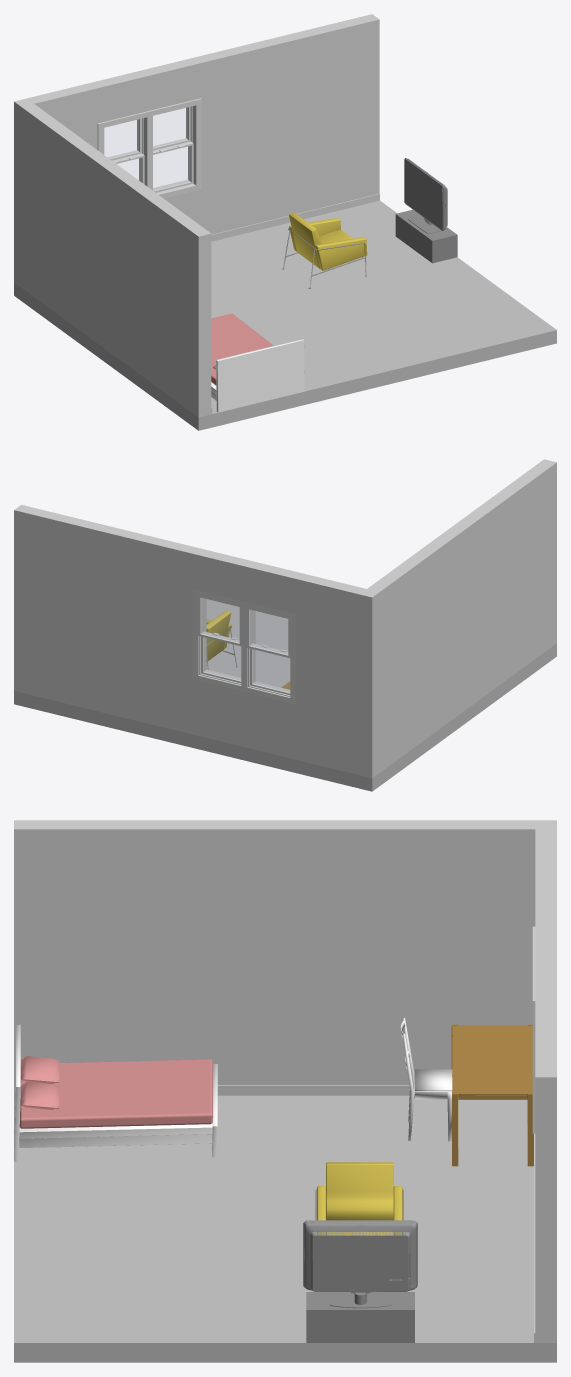
Rendered from L16_W18_furniture3_privacy3.glb.
3 renders of one model, top to bottom at view 1: azimuth 30°, elevation 25°; view 2: azimuth 150°, elevation 25°; view 3: azimuth 270°, elevation 25°, orthographic. The views are drawn at different scales.
Bounding box in the file's own units: 224 × 116 × 200.
